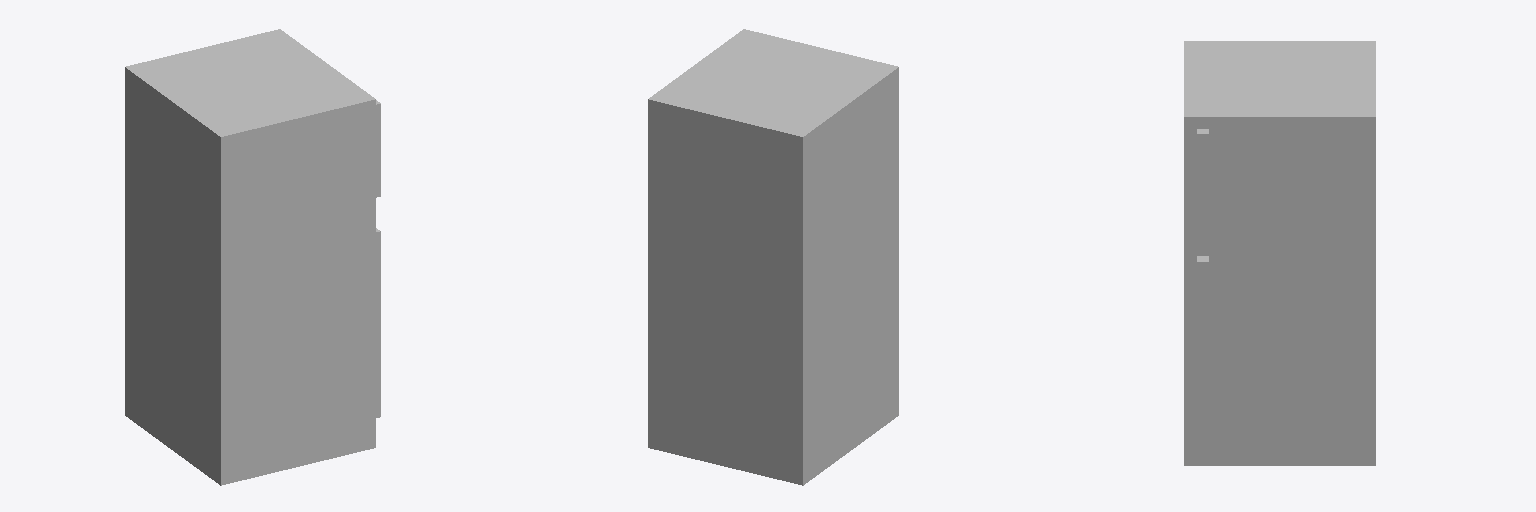
File: Kitchen-0.obj
The picture shows the model from 3 angles: view 1: azimuth 30°, elevation 25°; view 2: azimuth 150°, elevation 25°; view 3: azimuth 270°, elevation 25°; orthographic projection.
Visible parts, largest first — view 1: Kitchen-0; view 2: Kitchen-0; view 3: Kitchen-0.
Boxes of the visible parts, <box> form: Kitchen-0: <box>125,29,380,485</box>; Kitchen-0: <box>648,29,898,485</box>; Kitchen-0: <box>1184,41,1375,465</box>.
Bounding box in the file's own units: 15 × 30 × 15.